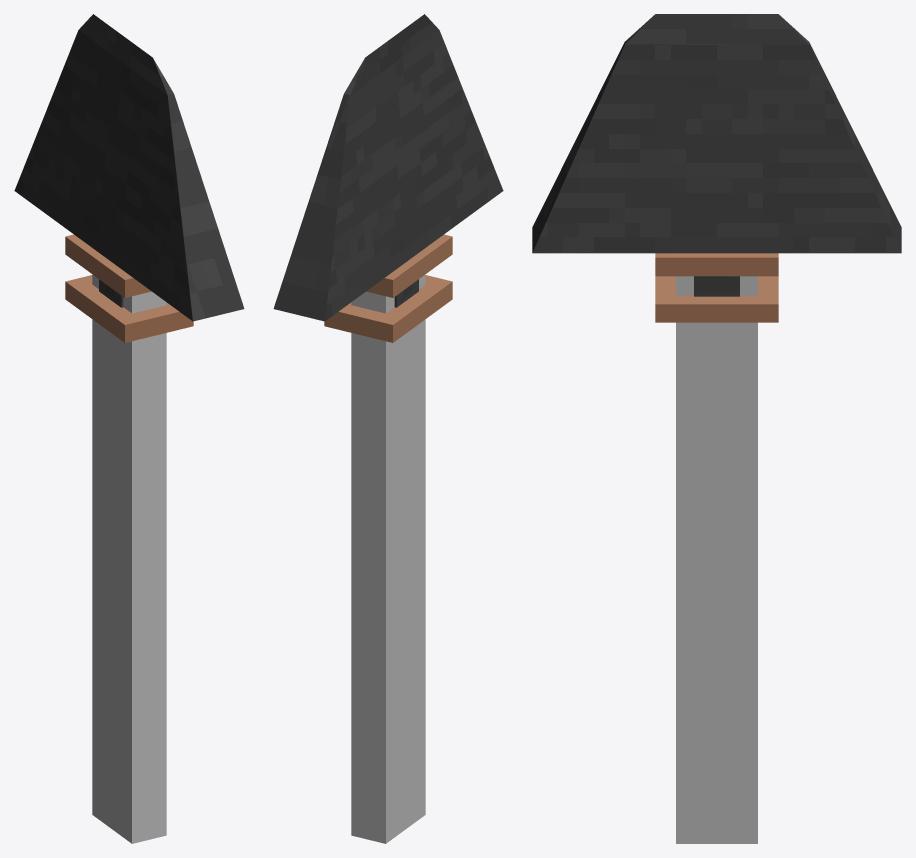
File: stoneShovel.obj
3 renders of one model, left to right at view 1: azimuth 30°, elevation 25°; view 2: azimuth 150°, elevation 25°; view 3: azimuth 270°, elevation 25°, orthographic. The views are drawn at different scales.
Visible parts, largest first — view 1: 2-southFace, 15-bottomFace, 15-westFace, 2-eastFace, 9-northFace, 9-topFace, 9-westFace; view 2: 2-southFace, 15-bottomFace, 15-eastFace, 2-westFace, 9-northFace, 9-topFace, 9-eastFace; view 3: 2-northFace, 15-topFace, 9-southFace, 9-topFace, 2-eastFace, 2-westFace.
Part boxes in pixels (<box>): 2-southFace: <box>14,14,192,321</box>; 15-bottomFace: <box>92,274,131,843</box>; 15-westFace: <box>132,291,166,843</box>; 2-eastFace: <box>121,58,244,321</box>; 9-northFace: <box>65,237,124,342</box>; 9-topFace: <box>65,234,178,324</box>; 9-westFace: <box>125,278,193,342</box>; 2-southFace: <box>325,14,503,321</box>; 15-bottomFace: <box>386,274,425,843</box>; 15-eastFace: <box>351,291,385,843</box>; 2-westFace: <box>273,58,396,321</box>; 9-northFace: <box>393,237,452,342</box>; 9-topFace: <box>339,234,452,324</box>; 9-eastFace: <box>324,278,392,342</box>; 2-northFace: <box>532,14,901,296</box>; 15-topFace: <box>676,276,757,843</box>; 9-southFace: <box>655,257,778,322</box>; 9-topFace: <box>655,253,778,304</box>; 2-eastFace: <box>532,15,653,252</box>; 2-westFace: <box>780,15,901,252</box>.
Bounding box in the file's own units: 0.125 × 1.38 × 0.5625.
3 materials, 2 textured.
